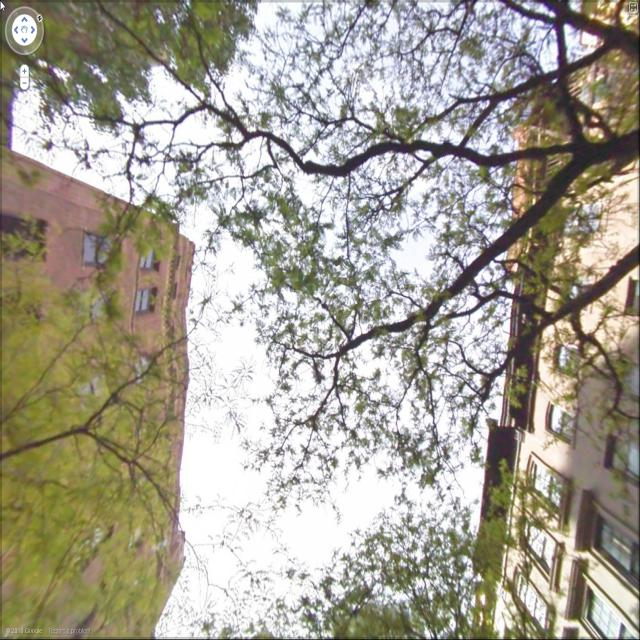b_2: (454, 17, 640, 630), (0, 152, 217, 592)
